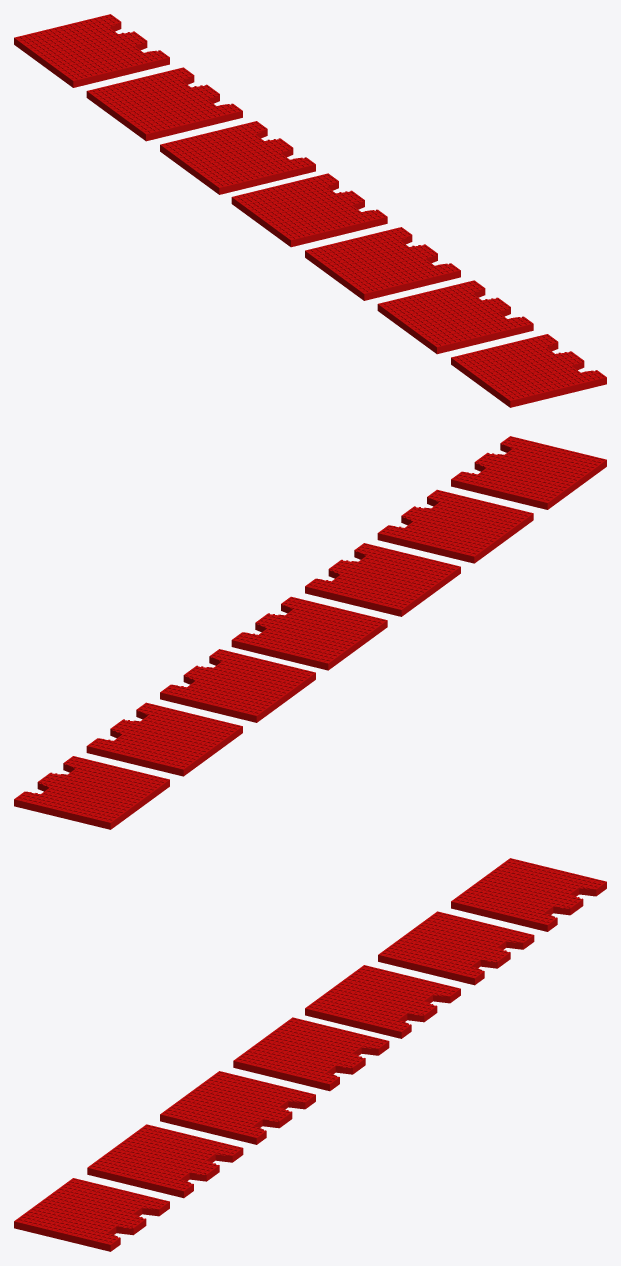
File: door1.glb
3 renders of one model, top to bottom at view 1: azimuth 30°, elevation 25°; view 2: azimuth 150°, elevation 25°; view 3: azimuth 330°, elevation 25°, orthographic.
Visible parts, largest first — view 1: <LWODefault>; view 2: <LWODefault>; view 3: <LWODefault>.
Boxes of the visible parts, x1,y1,x2,y2 form: <LWODefault>: (14, 14, 606, 407); <LWODefault>: (14, 436, 606, 829); <LWODefault>: (14, 858, 606, 1251).
Size of the model in its own units: 13 by 0.9 by 116.
